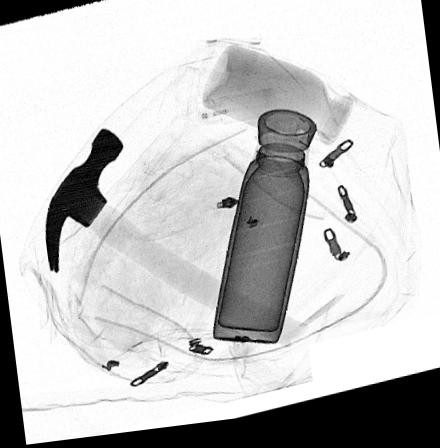Hammer: (44, 130, 307, 356)
